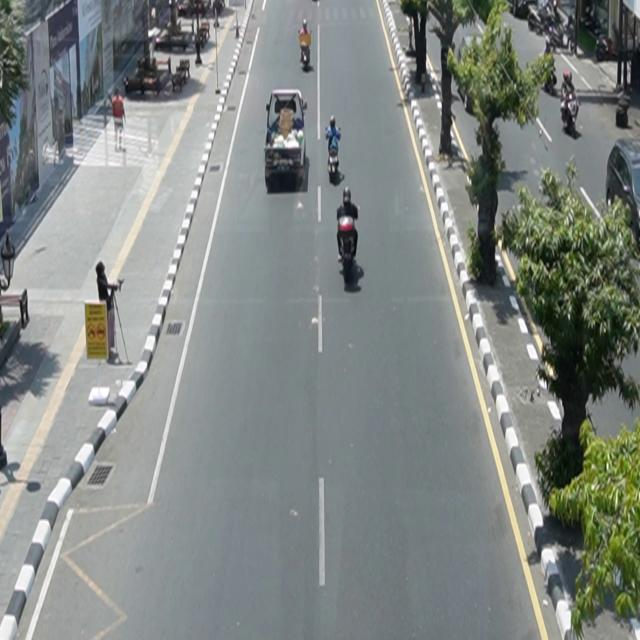car: (265, 89, 309, 189), (606, 136, 640, 246)
